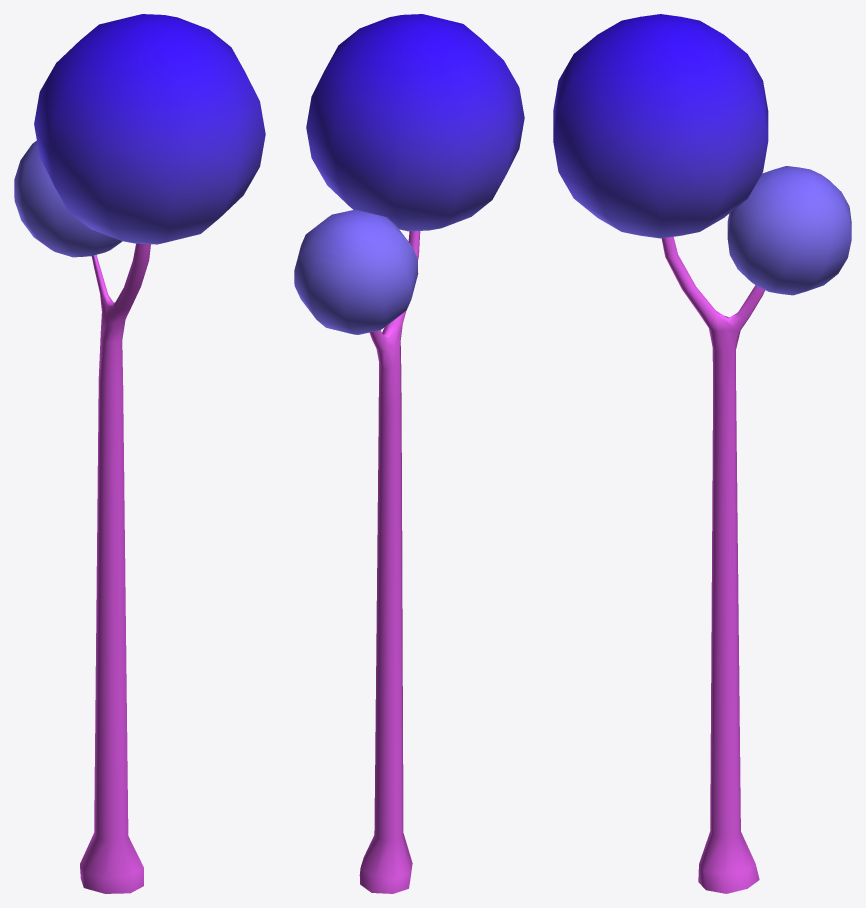
Rendered from Tree11.fbx.
The picture shows the model from 3 angles, left to right: view 1: azimuth 30°, elevation 25°; view 2: azimuth 150°, elevation 25°; view 3: azimuth 270°, elevation 25°; orthographic projection. The views are drawn at different scales.
Visible parts, largest first — view 1: Tree11; view 2: Tree11; view 3: Tree11.
Boxes of the visible parts, bbox=[...] form: Tree11: bbox=[14, 14, 265, 893]; Tree11: bbox=[294, 14, 524, 893]; Tree11: bbox=[553, 14, 851, 893].
Bounding box in the file's own units: 1184 × 4957 × 1563.
